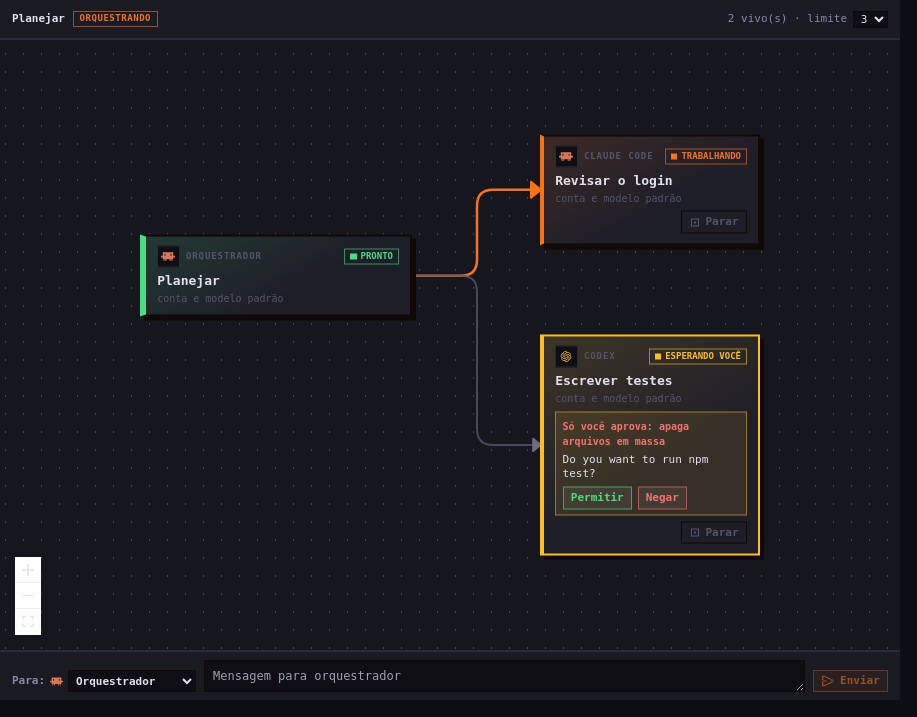
interagir pelo fluxo › tela mudou desde a leitura (412): não aprova às cegas e avisa
Click the button "Permitir": (597, 498) [563, 486, 632, 509]
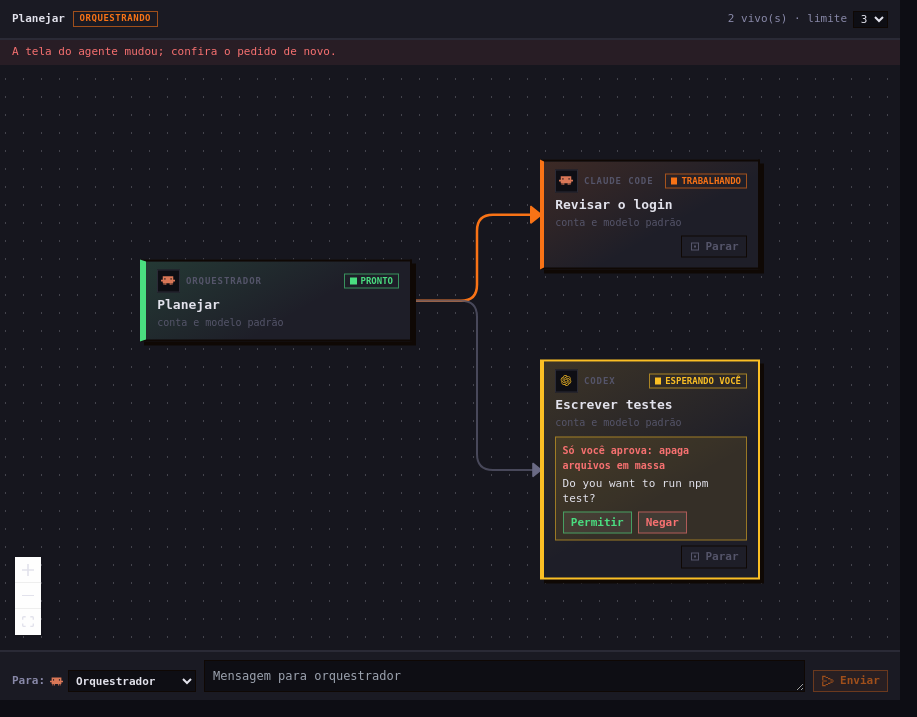
Check: the message shows "A tela do agente mudou", box [12, 45, 336, 58]
